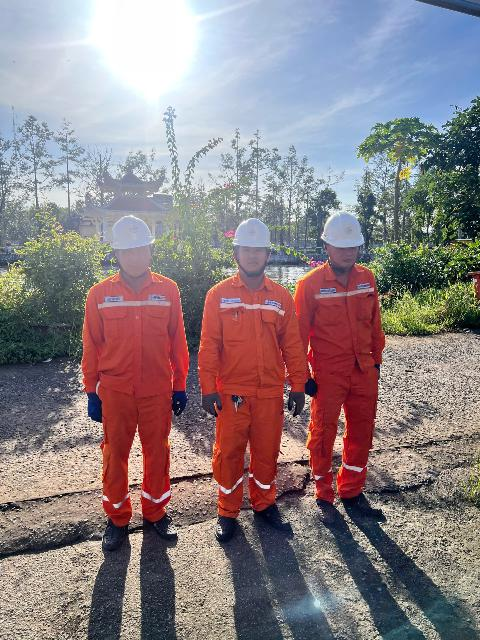gloves: (76, 390, 109, 428), (166, 382, 191, 418), (195, 387, 221, 420), (284, 388, 309, 418), (300, 375, 322, 399)
helmet: (96, 210, 163, 260), (319, 203, 369, 254), (229, 214, 277, 254)
shoes: (135, 505, 188, 547), (245, 495, 296, 535), (96, 506, 137, 555), (340, 482, 388, 522), (206, 506, 243, 542), (308, 490, 339, 526)
